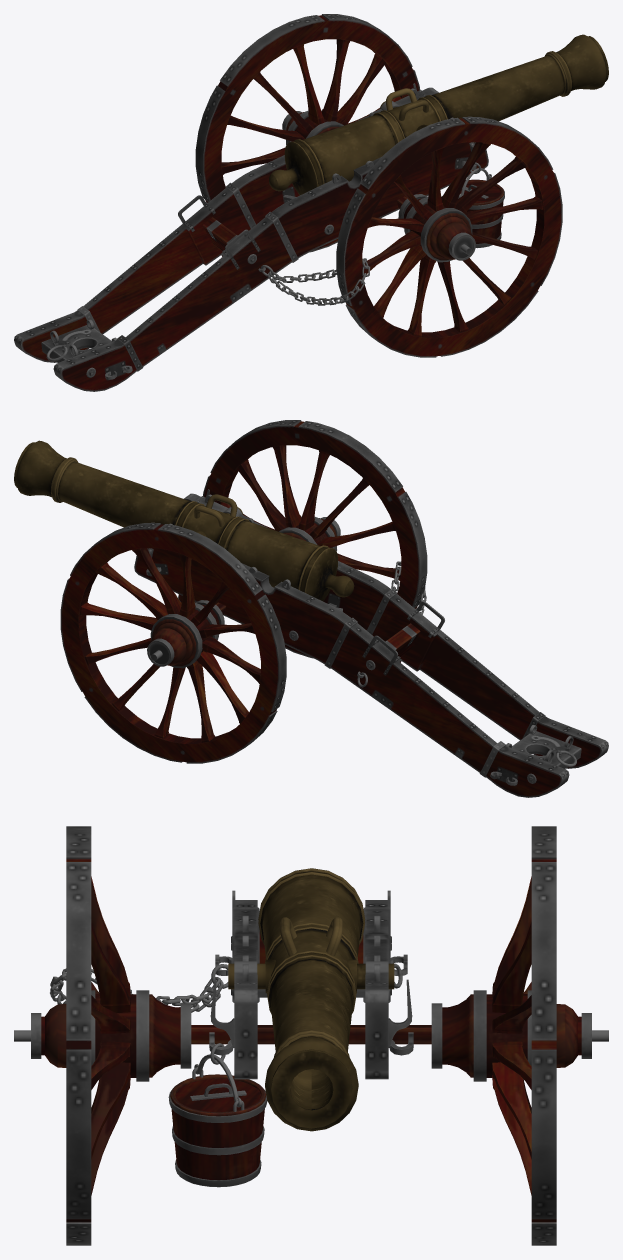
3 views of the same model, one above another, from view 1: azimuth 30°, elevation 25°; view 2: azimuth 150°, elevation 25°; view 3: azimuth 270°, elevation 25° (orthographic). The views are drawn at different scales.
Visible parts, largest first — view 1: canon; view 2: canon; view 3: canon.
Boxes of the visible parts, box(x1,y1,x2,y2) form: canon: box(14, 14, 608, 391); canon: box(14, 420, 608, 797); canon: box(14, 826, 608, 1245).
Bounding box in the file's own units: 2.28 × 0.8918 × 1.26.
1 material, 1 textured.
